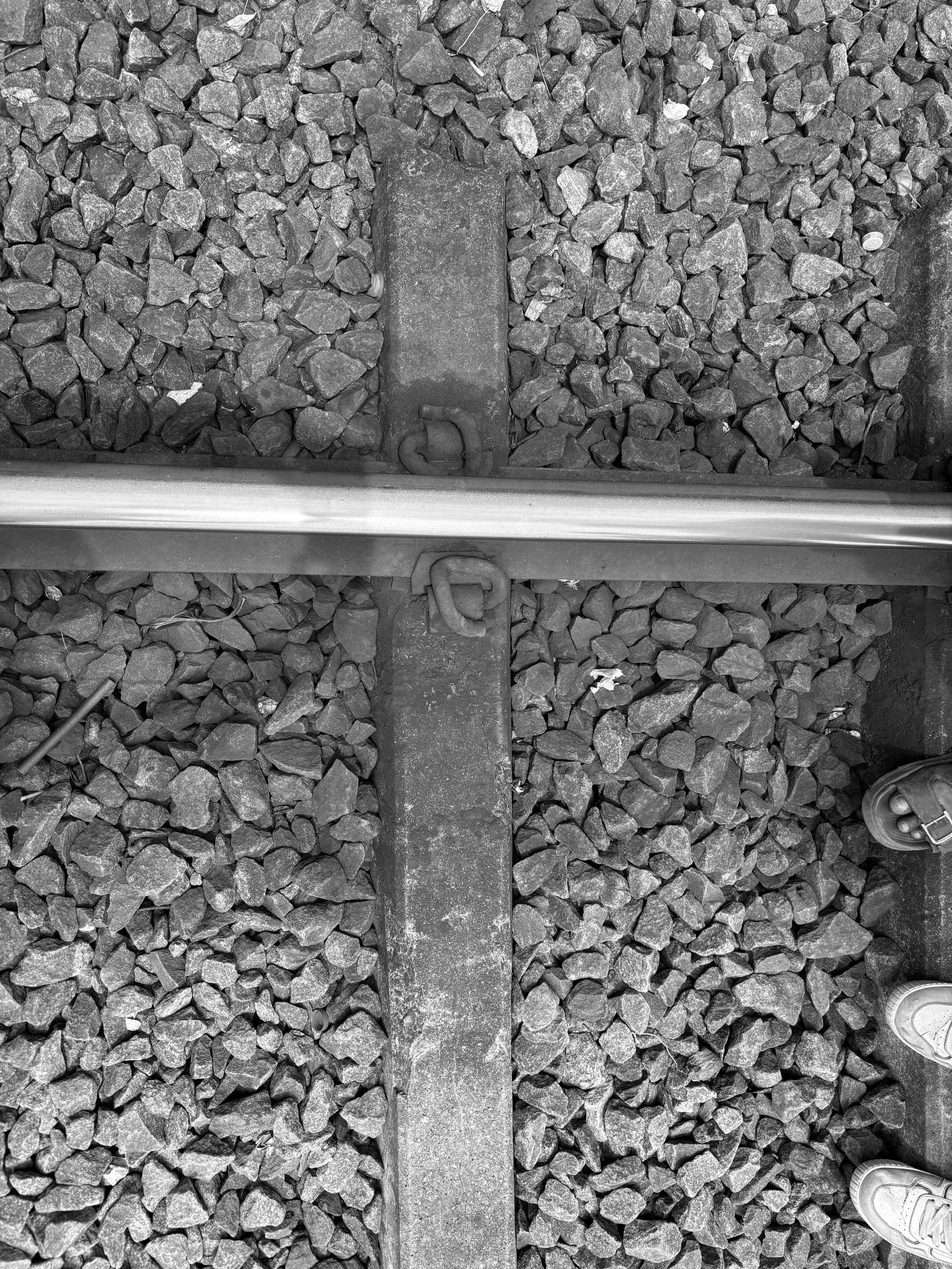cracks in midportion: (449, 1029, 476, 1264)
cracks under rail seat: (424, 628, 538, 840)
